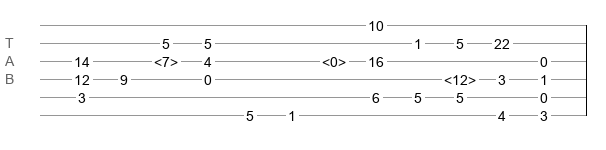0: (204, 72, 212, 82), (540, 54, 548, 64), (540, 90, 548, 100)
1: (288, 108, 296, 118), (414, 36, 422, 46), (540, 72, 548, 82)
10: (368, 18, 384, 28)
12: (74, 72, 90, 82)
14: (74, 54, 90, 64)
16: (368, 54, 384, 64)
22: (494, 36, 510, 46)
3: (78, 90, 86, 100), (498, 72, 506, 82), (540, 108, 548, 118)
4: (204, 54, 212, 64), (498, 108, 506, 118)
5: (162, 36, 170, 46), (204, 36, 212, 46), (246, 108, 254, 118), (414, 90, 422, 100), (456, 90, 464, 100), (456, 36, 464, 46)
6: (372, 90, 380, 100)
9: (120, 72, 128, 82)
harmonic: (444, 72, 476, 82), (154, 54, 178, 64), (322, 54, 346, 64)
